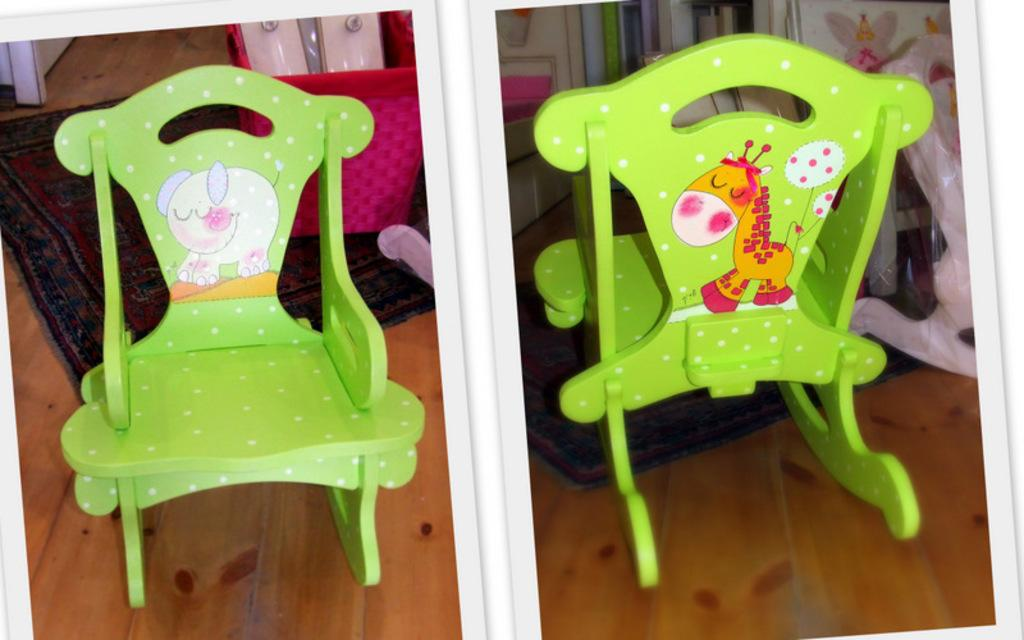Chair: (534, 31, 933, 588), (59, 69, 410, 627)
